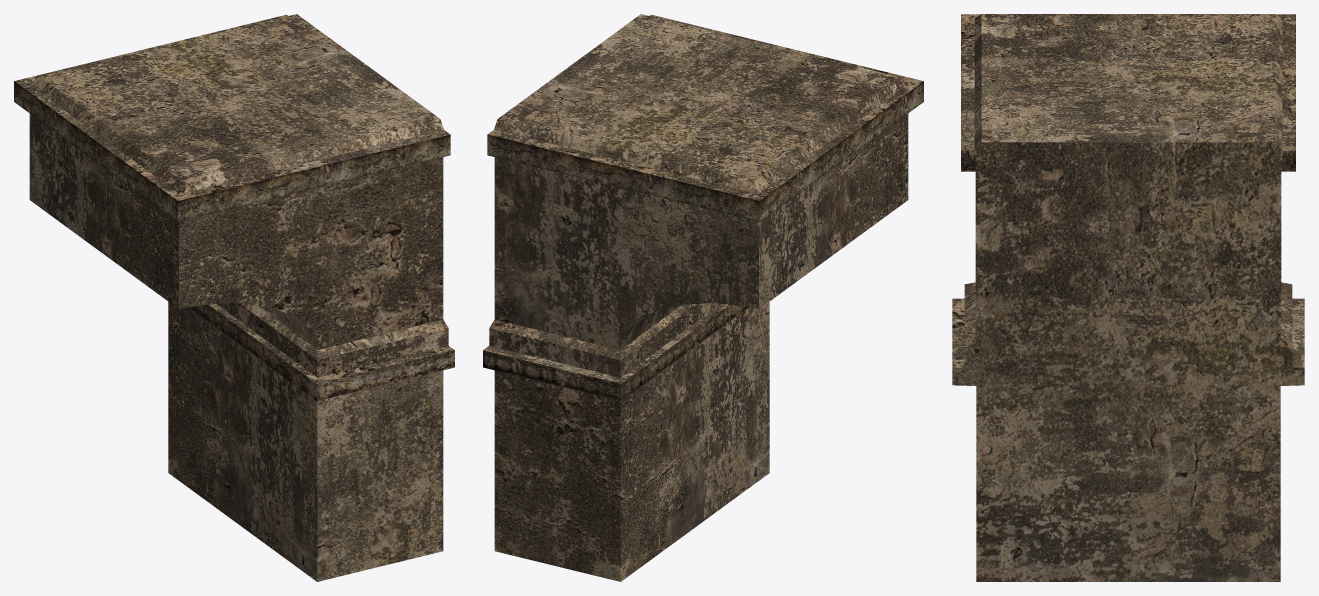
Rendered from materials_5_decoration_5.fbx.
The picture shows the model from 3 angles, left to right: view 1: azimuth 30°, elevation 25°; view 2: azimuth 150°, elevation 25°; view 3: azimuth 270°, elevation 25°; orthographic projection. The views are drawn at different scales.
Parts seen in each view (by area): view 1: materials_5_decoration_5; view 2: materials_5_decoration_5; view 3: materials_5_decoration_5.
Part boxes in pixels (box(x1,y1,x2,y2)): materials_5_decoration_5: box(14, 14, 454, 581); materials_5_decoration_5: box(483, 14, 923, 581); materials_5_decoration_5: box(952, 14, 1304, 581).
Bounding box in the file's own units: 109 × 164 × 119.
